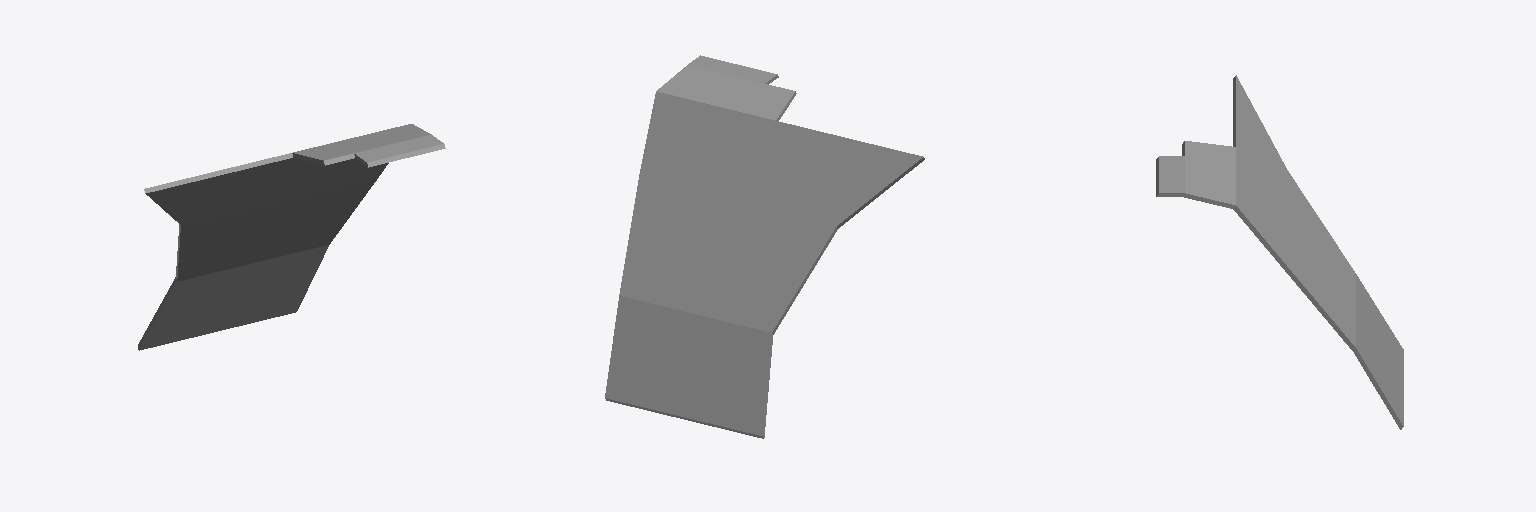
Rendered from ClonePanel.obj.
3 views of the same model, side by side, from view 1: azimuth 30°, elevation 25°; view 2: azimuth 150°, elevation 25°; view 3: azimuth 270°, elevation 25° (orthographic).
Visible parts, largest first — view 1: vr_controller_lowpoly_vr_controller_lowpoly_mesh.001; view 2: vr_controller_lowpoly_vr_controller_lowpoly_mesh.001; view 3: vr_controller_lowpoly_vr_controller_lowpoly_mesh.001.
Boxes of the visible parts, x1,y1,x2,y2 form: vr_controller_lowpoly_vr_controller_lowpoly_mesh.001: [138, 124, 445, 350]; vr_controller_lowpoly_vr_controller_lowpoly_mesh.001: [605, 55, 924, 438]; vr_controller_lowpoly_vr_controller_lowpoly_mesh.001: [1156, 75, 1403, 429].
Bounding box in the file's own units: 0.0604 × 0.0539 × 0.0483.